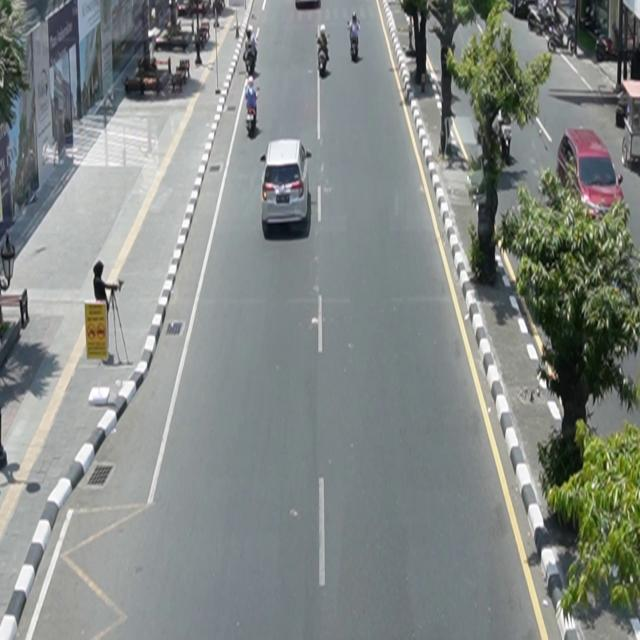car: (557, 127, 625, 221), (261, 139, 313, 230)
